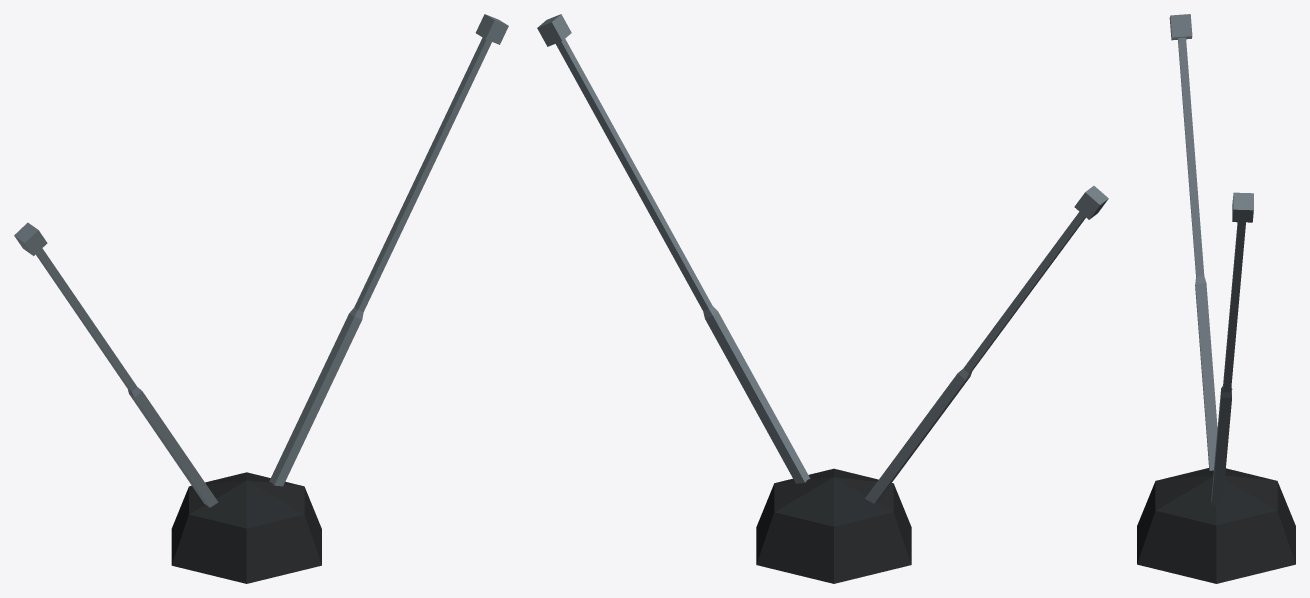
The model's file is SM_Prop_Electronics_Tv_Aerial_01.glb.
3 views of the same model, side by side, from view 1: azimuth 30°, elevation 25°; view 2: azimuth 150°, elevation 25°; view 3: azimuth 270°, elevation 25° (orthographic). The views are drawn at different scales.
Parts seen in each view (by area): view 1: SM_Prop_Electronics_Tv_Aerial_01; view 2: SM_Prop_Electronics_Tv_Aerial_01; view 3: SM_Prop_Electronics_Tv_Aerial_01.
Boxes of the visible parts, x1,y1,x2,y2 form: SM_Prop_Electronics_Tv_Aerial_01: [14, 14, 508, 583]; SM_Prop_Electronics_Tv_Aerial_01: [537, 14, 1108, 583]; SM_Prop_Electronics_Tv_Aerial_01: [1137, 14, 1295, 583].
Bounding box in the file's own units: 0.7231 × 0.6149 × 0.1826.
1 material, 1 textured.
